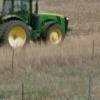Tractor: (5, 2, 75, 55)
